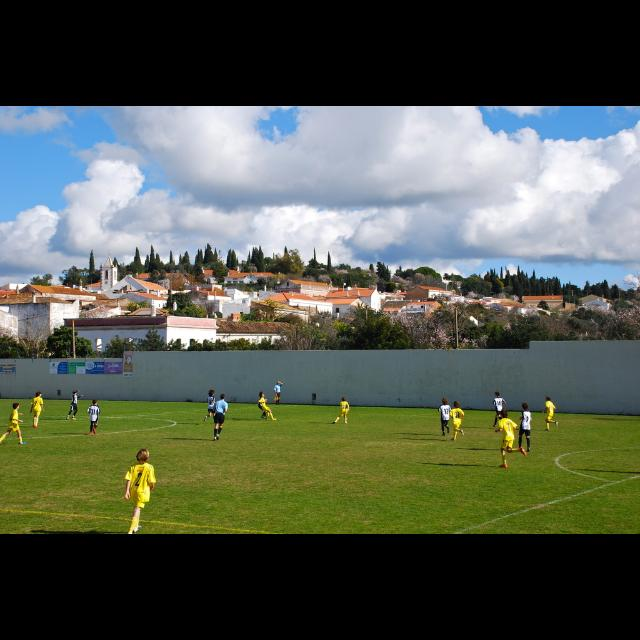Football: (314, 322, 318, 328)
